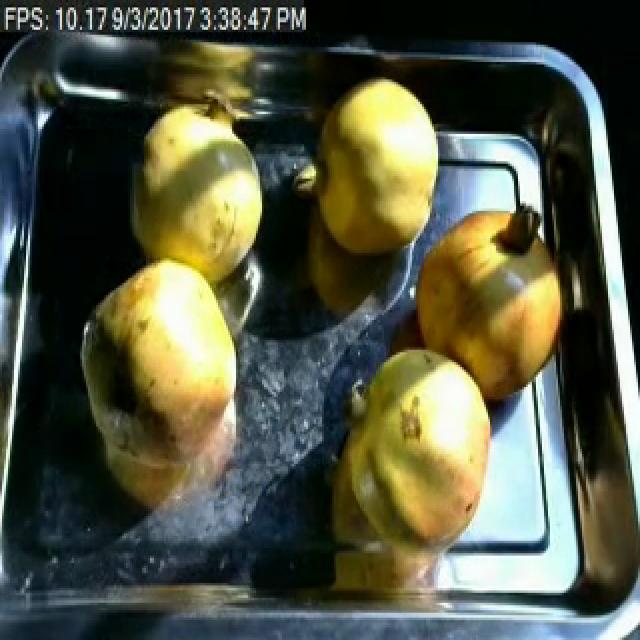fruit: (68, 238, 260, 496), (326, 333, 502, 563), (398, 196, 576, 409), (302, 72, 448, 273), (126, 87, 272, 283)
